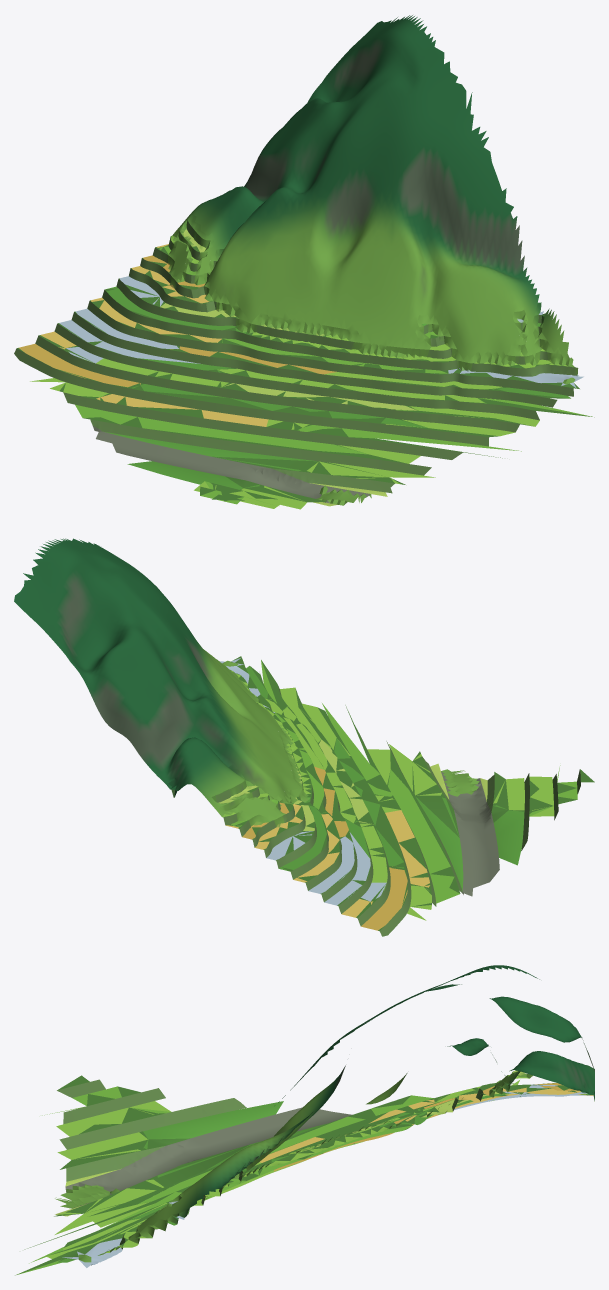
Rendered from payo_land_xm1_y3.glb.
3 views of the same model, one above another, from view 1: azimuth 30°, elevation 25°; view 2: azimuth 150°, elevation 25°; view 3: azimuth 270°, elevation 25° (orthographic). The views are drawn at different scales.
Parts seen in each view (by area): view 1: payo_land_xm1_y3; view 2: payo_land_xm1_y3; view 3: payo_land_xm1_y3.
Part boxes in pixels (x1=…): payo_land_xm1_y3: x1=14, y1=15, x2=594, y2=509; payo_land_xm1_y3: x1=14, y1=538, x2=594, y2=936; payo_land_xm1_y3: x1=15, y1=965, x2=594, y2=1275.
Bounding box in the file's own units: 271 × 203 × 280.
